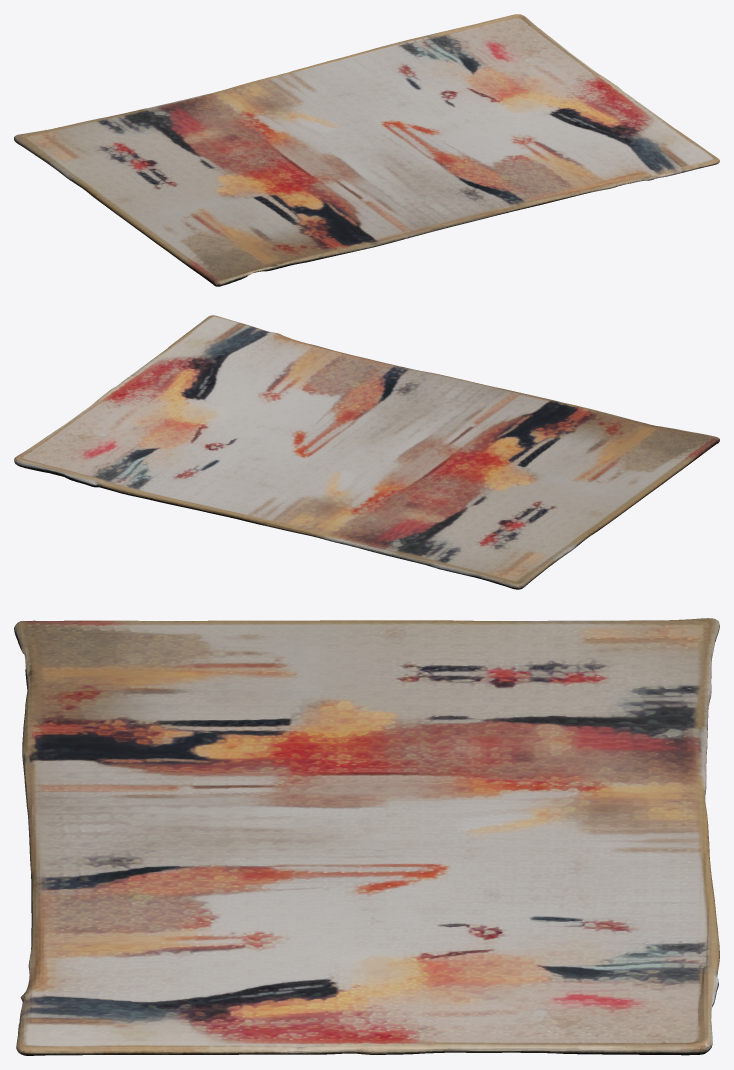
Rendered from floor_mat_2.glb.
The picture shows the model from 3 angles, top to bottom: view 1: azimuth 30°, elevation 25°; view 2: azimuth 150°, elevation 25°; view 3: azimuth 270°, elevation 25°; orthographic projection. The views are drawn at different scales.
Parts seen in each view (by area): view 1: world; view 2: world; view 3: world.
Boxes of the visible parts, x1=… form: world: x1=14, y1=14, x2=719, y2=286; world: x1=14, y1=315, x2=719, y2=589; world: x1=14, y1=618, x2=719, y2=1055.
Bounding box in the file's own units: 0.9911 × 0.015 × 0.6843.
Materials: 1 (1 with a texture image).
